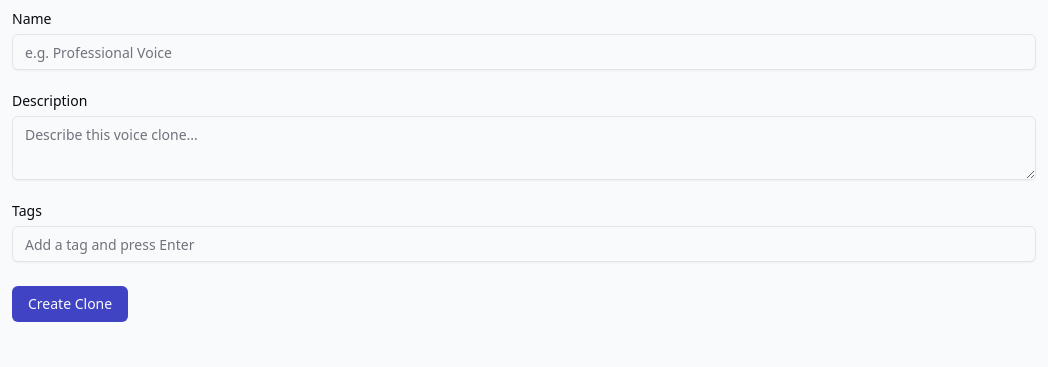
Scenario: CloneForm › shows validation error when submitting with empty name
The width and height of the screenshot is (1048, 367).
Click the button "Create Clone" at {"x": 70, "y": 304}, box [12,286,128,322]
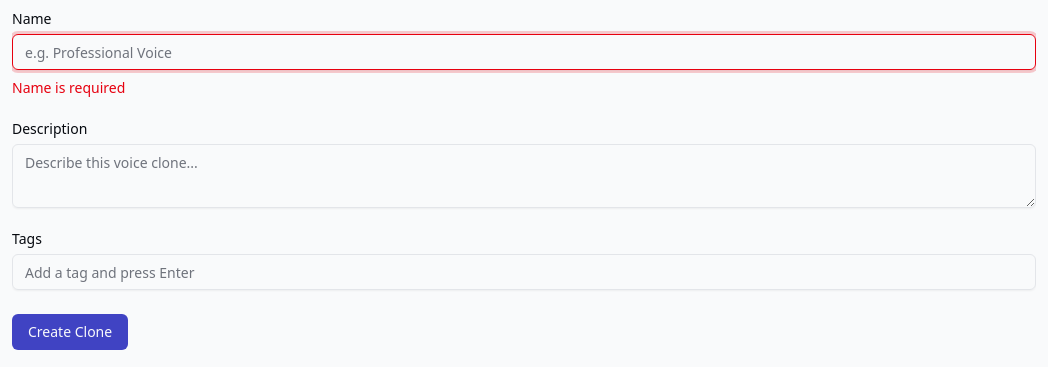
Now the text "Name is required" is shown, box [12,78,125,97]
